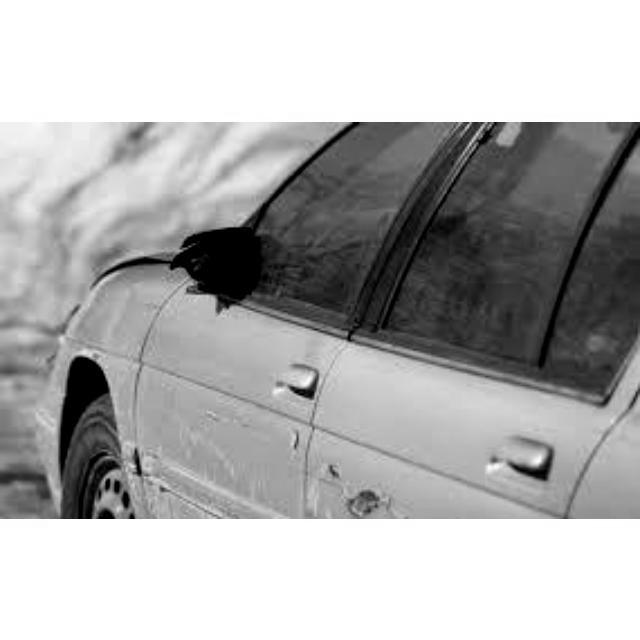Sidemirror-Damage: (162, 204, 276, 316)
doorouter-dent: (320, 373, 555, 516)
